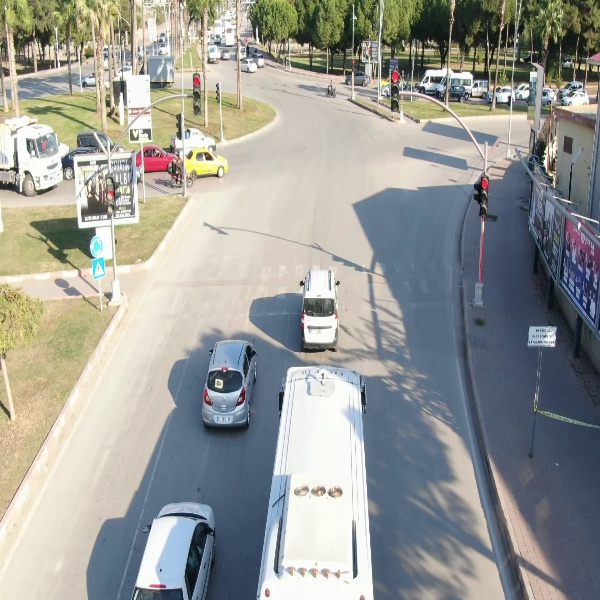car: (200, 337, 260, 433), (297, 265, 345, 356), (182, 147, 231, 182), (485, 84, 517, 105), (440, 85, 468, 104), (560, 90, 591, 106), (345, 71, 371, 88), (239, 58, 258, 74)
